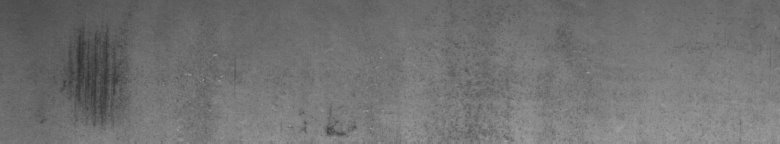ka: (64, 31, 128, 104)
